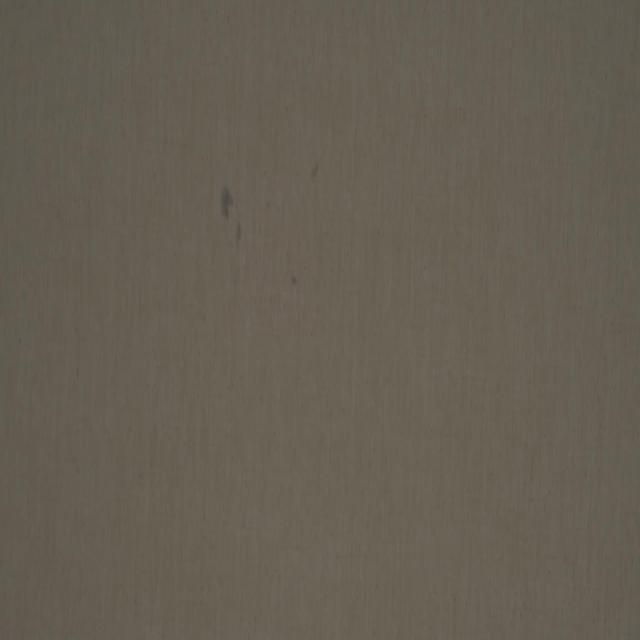dirty: (219, 186, 234, 218), (308, 162, 320, 182), (234, 222, 244, 243), (292, 274, 296, 286)
